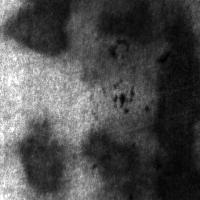patches: (71, 117, 199, 200), (48, 0, 176, 78), (154, 10, 200, 199), (82, 127, 141, 193), (84, 2, 144, 62), (5, 1, 70, 56), (20, 118, 65, 192), (98, 1, 154, 42)
